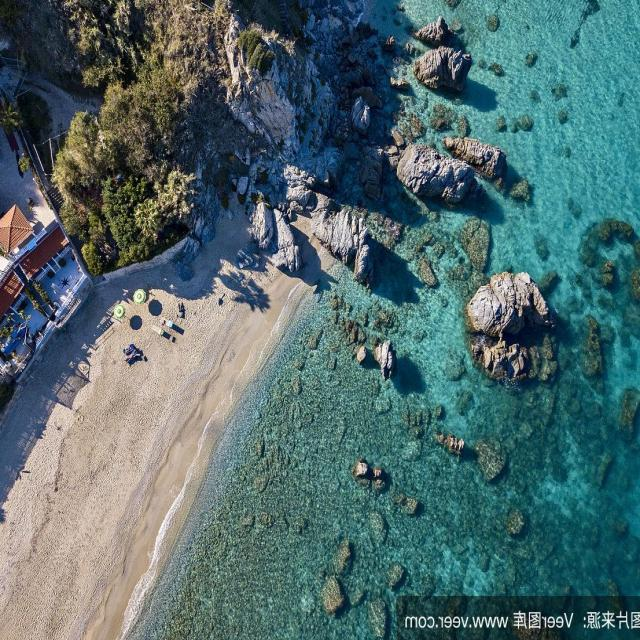reef: (488, 238, 582, 358), (400, 105, 526, 188), (561, 213, 640, 330), (390, 10, 480, 96), (341, 182, 385, 306), (305, 550, 384, 605), (590, 370, 640, 454), (445, 418, 507, 470), (377, 471, 420, 535), (480, 510, 528, 540), (351, 463, 392, 498)
